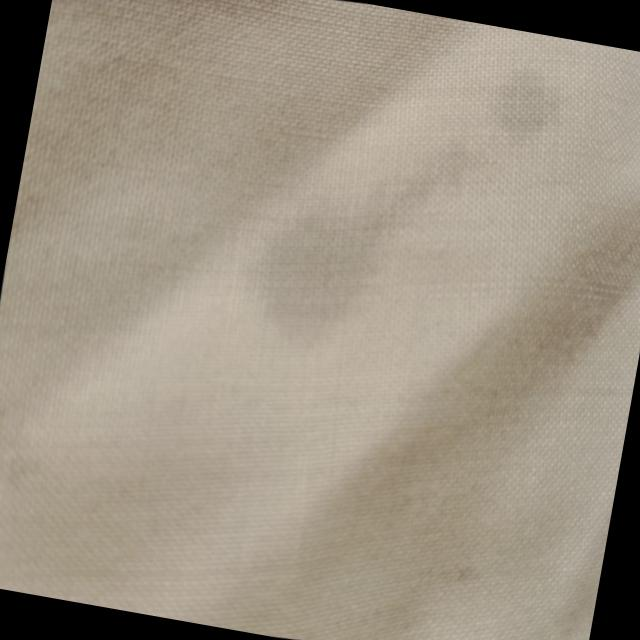stain: (220, 156, 400, 362), (470, 53, 570, 160)
